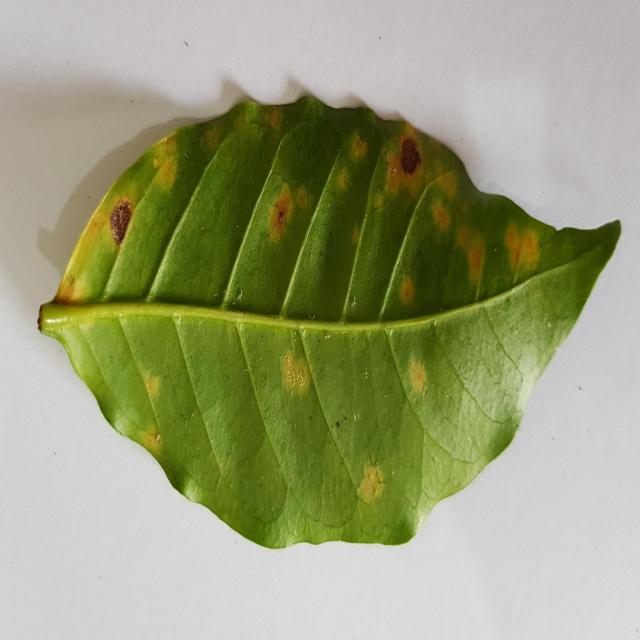rust: (431, 171, 487, 303), (371, 122, 429, 227), (263, 172, 314, 247), (503, 212, 545, 284), (281, 331, 314, 399), (150, 129, 181, 192), (248, 101, 297, 139), (109, 198, 132, 249), (341, 128, 371, 167), (357, 465, 385, 505), (328, 164, 355, 202), (140, 369, 162, 409), (398, 276, 414, 306)
